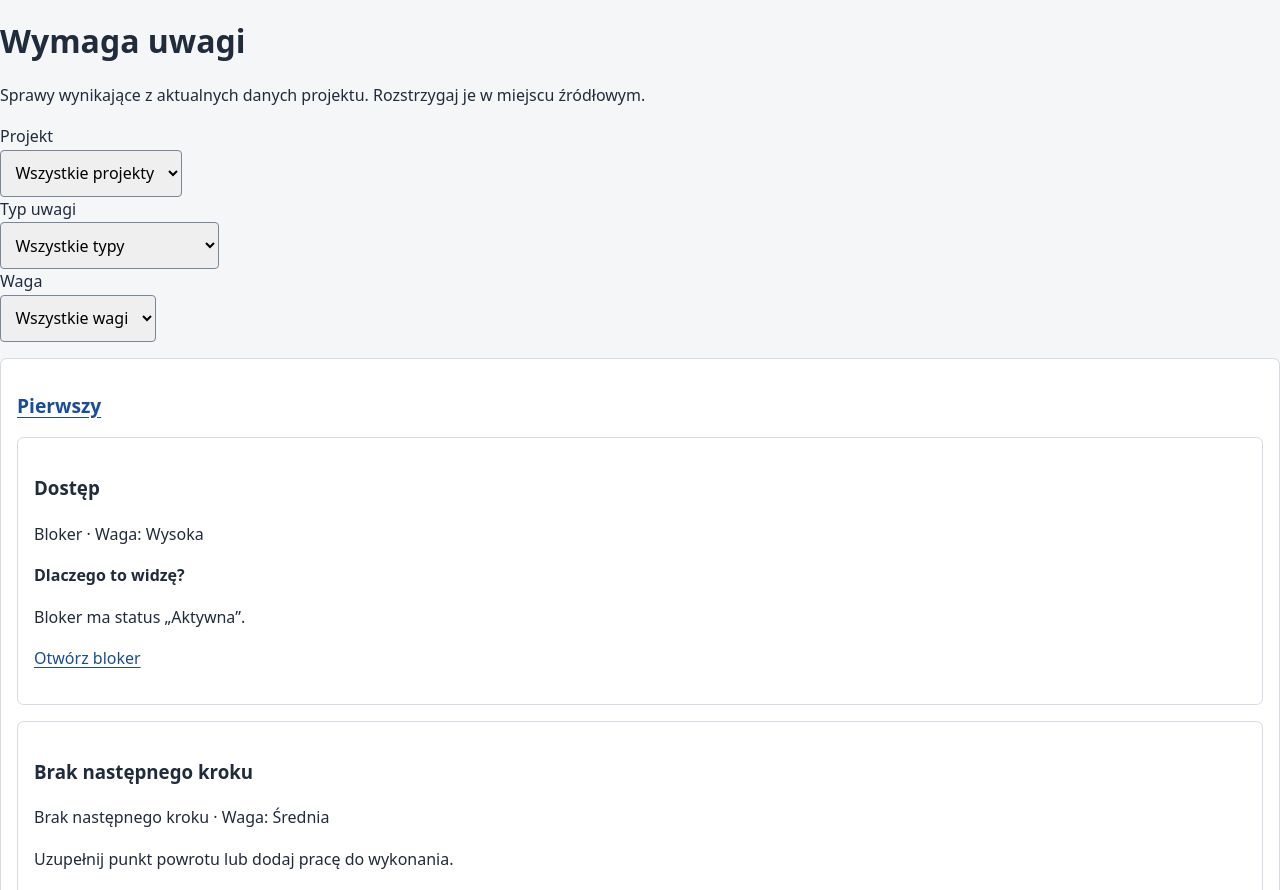
Test case: łączy filtry projektu, typu i wagi oraz pokazuje pusty wynik bez zmiany źródeł
Select "Pierwszy" in the dropdown labelled "Projekt" at (91, 174), box [0, 150, 182, 197]
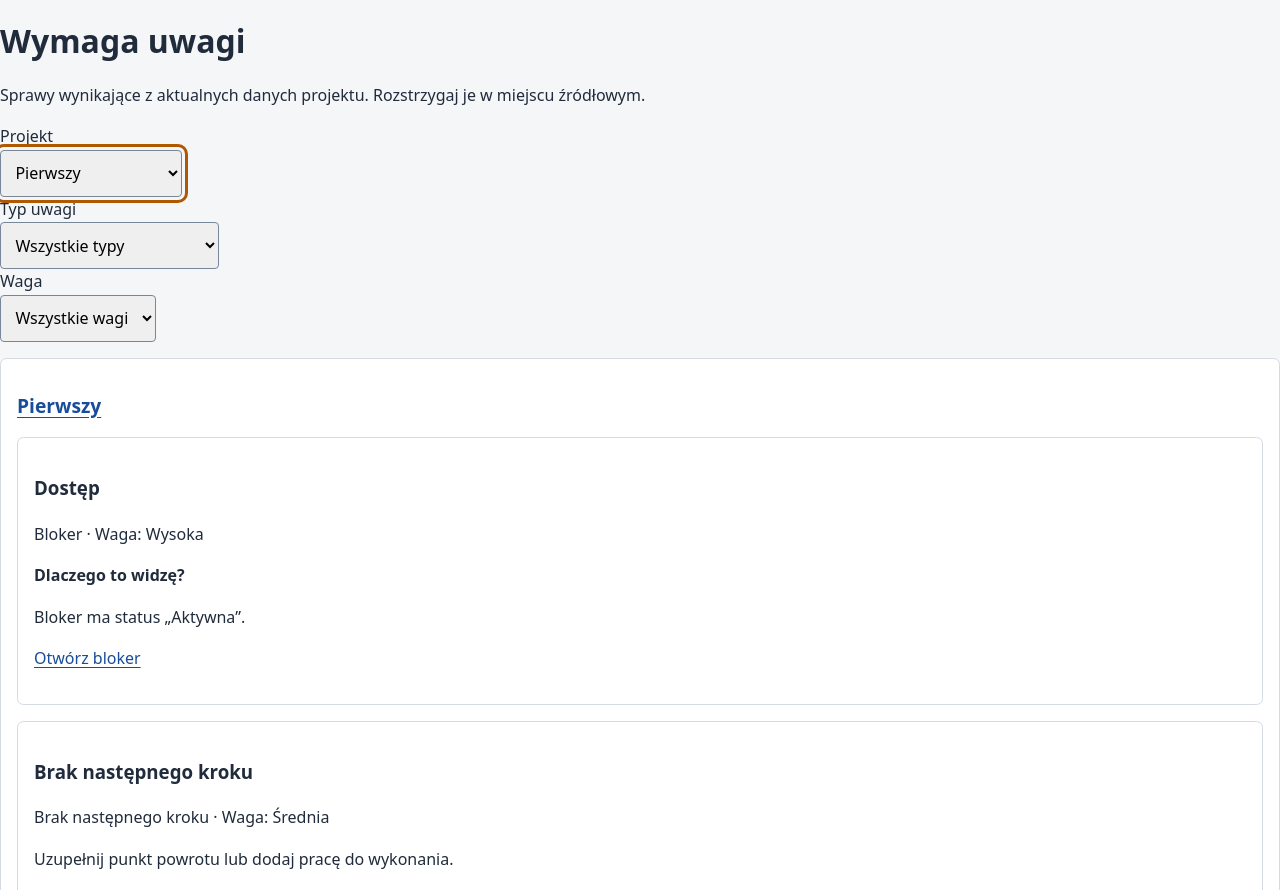
Select "Bloker" in the dropdown labelled "Typ uwagi" at (109, 246), box [0, 222, 219, 269]
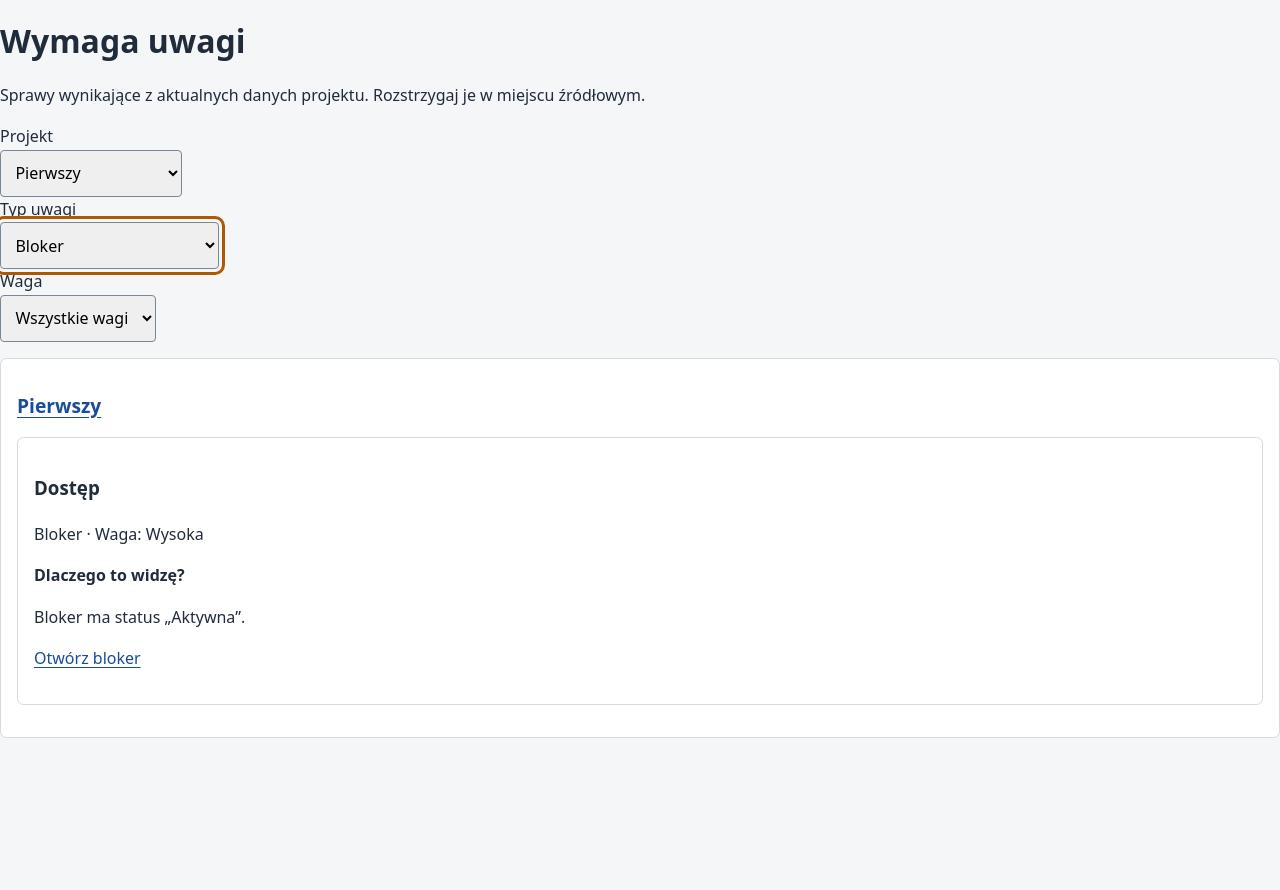
Select "Wysoka" in the dropdown labelled "Waga" at (78, 318), box [0, 295, 156, 342]
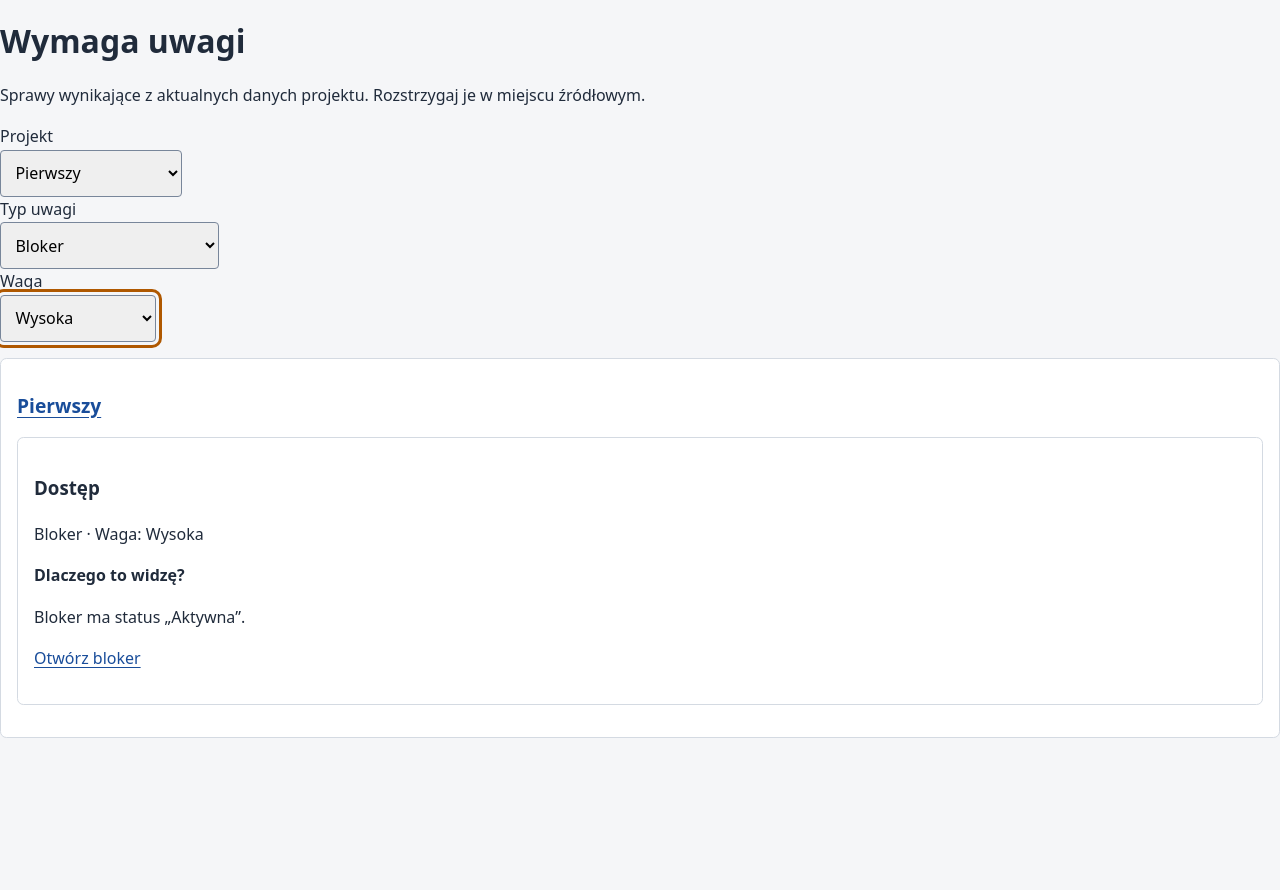
Expected: the heading "Dostęp" is shown, [34, 475, 100, 500]
Select "Niska" in the dropdown labelled "Waga" at (78, 318), box [0, 295, 156, 342]
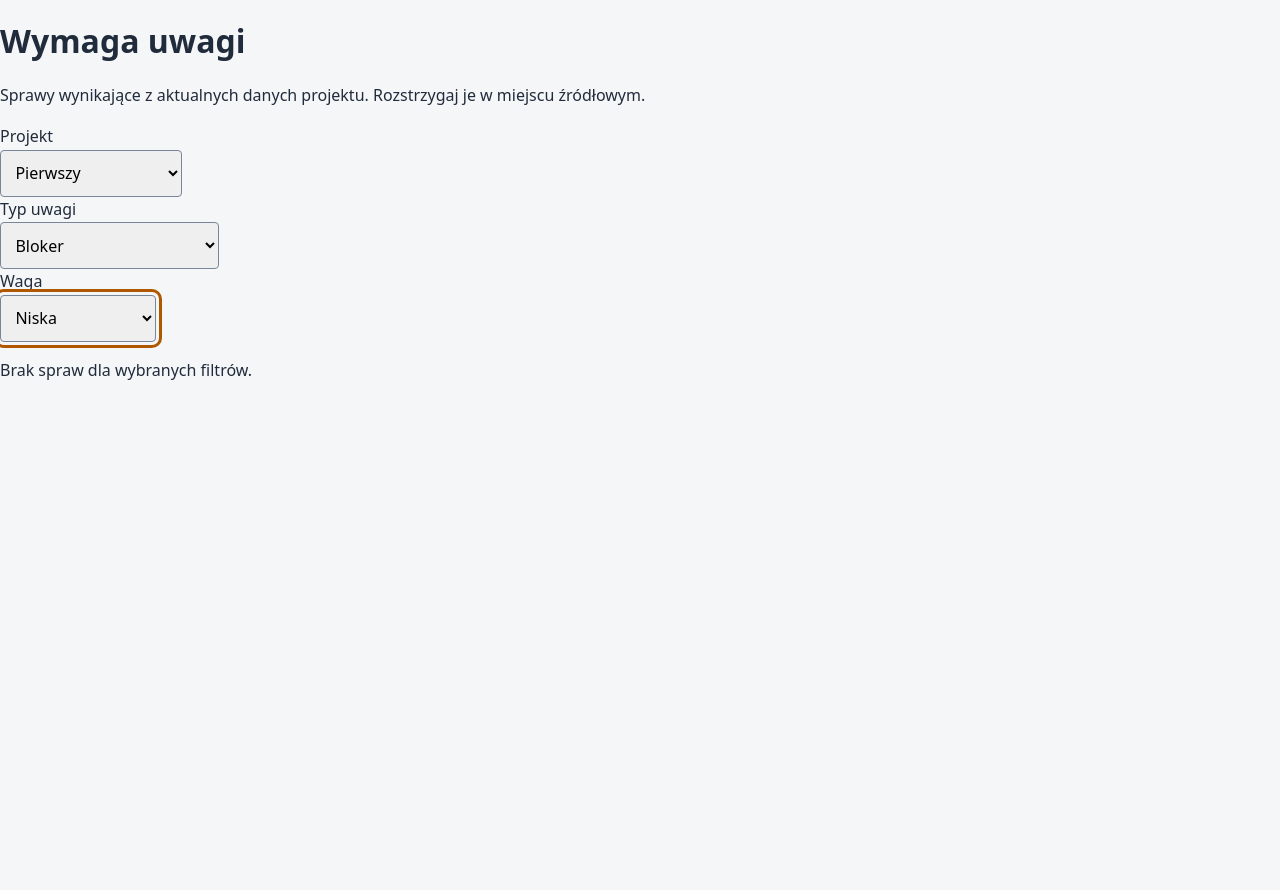
Now the text "Brak spraw dla wybranych filtrów." is shown, box [0, 359, 252, 381]
